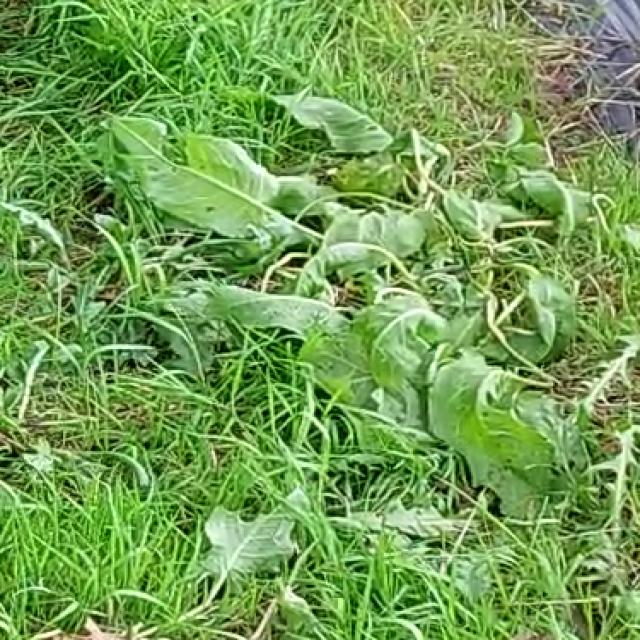organic waste: (123, 65, 640, 449)
